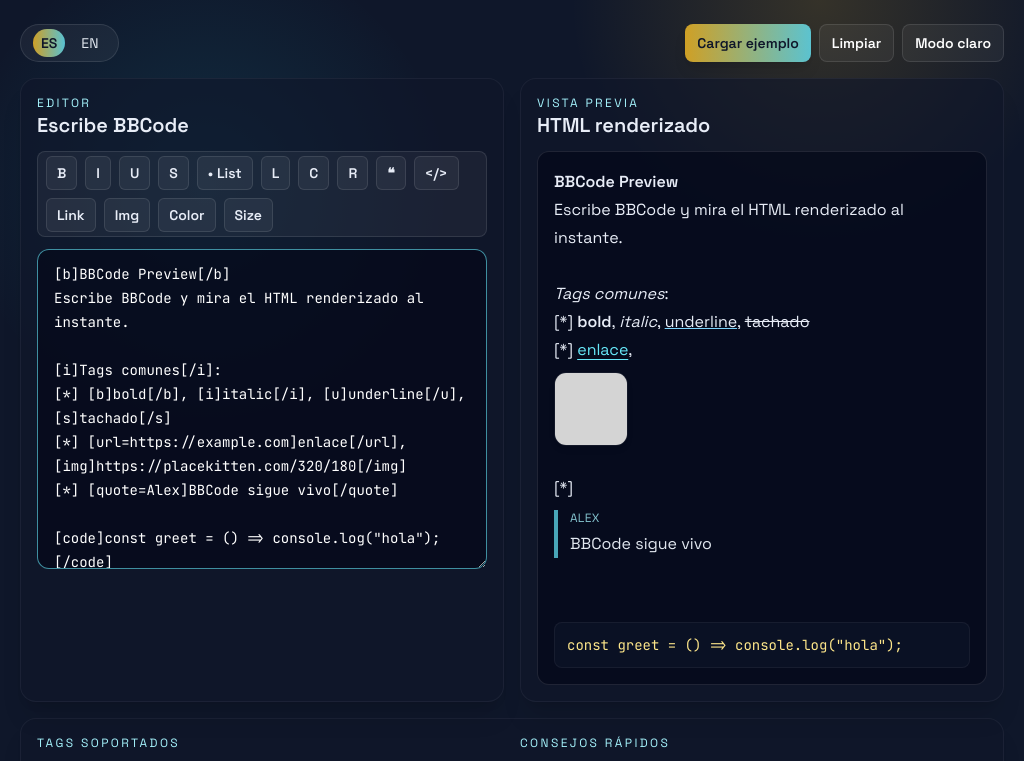
Test: App › inserts tags from chips at selection and clears
Replace the text in the text box with "texto". click: (262, 409)
box: [37,249,487,569]
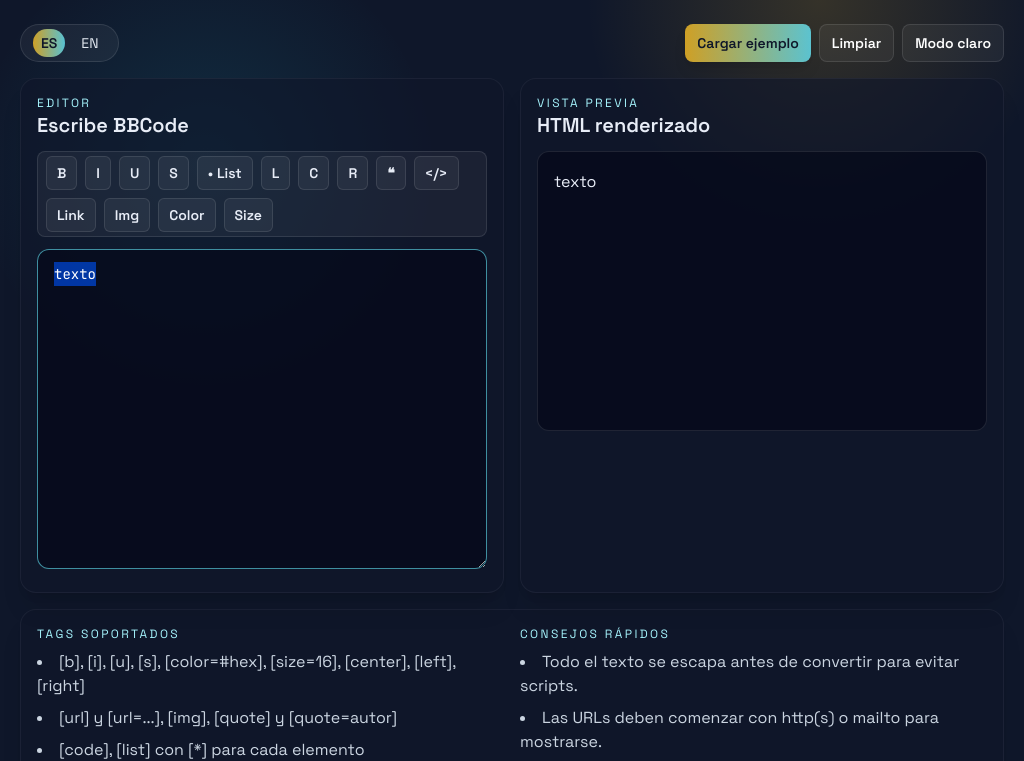
Click the button "B". click: click(62, 173)
box: [46,156,77,190]
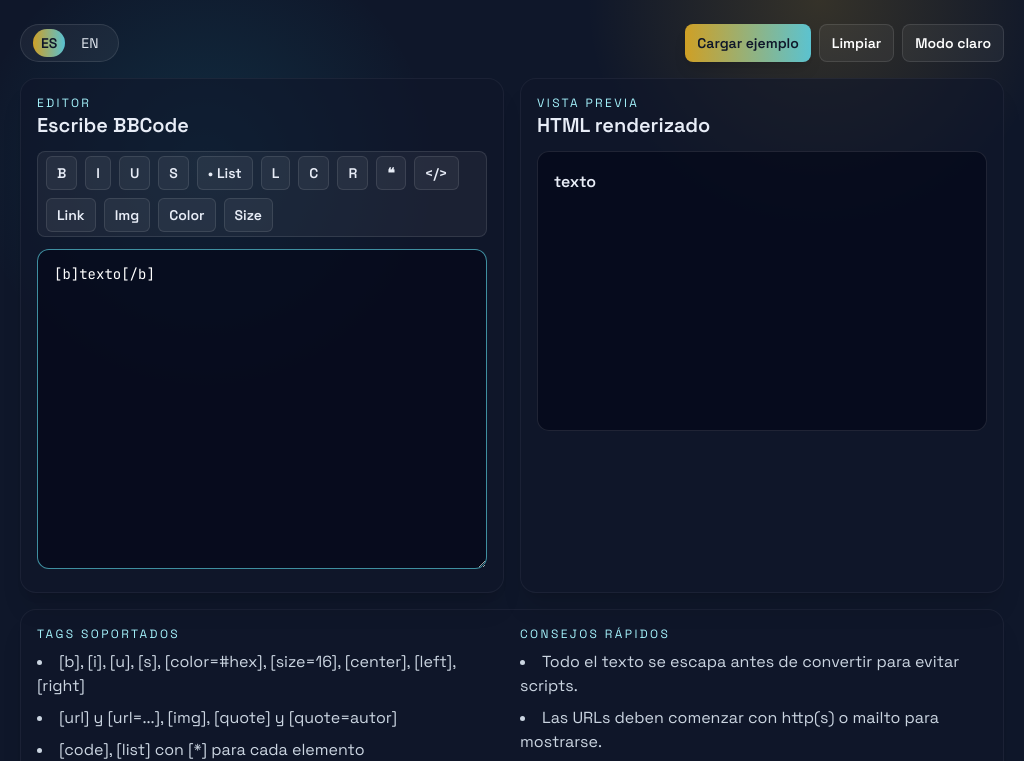
Click the button "Limpiar". click: click(856, 43)
box: [819,24,894,62]
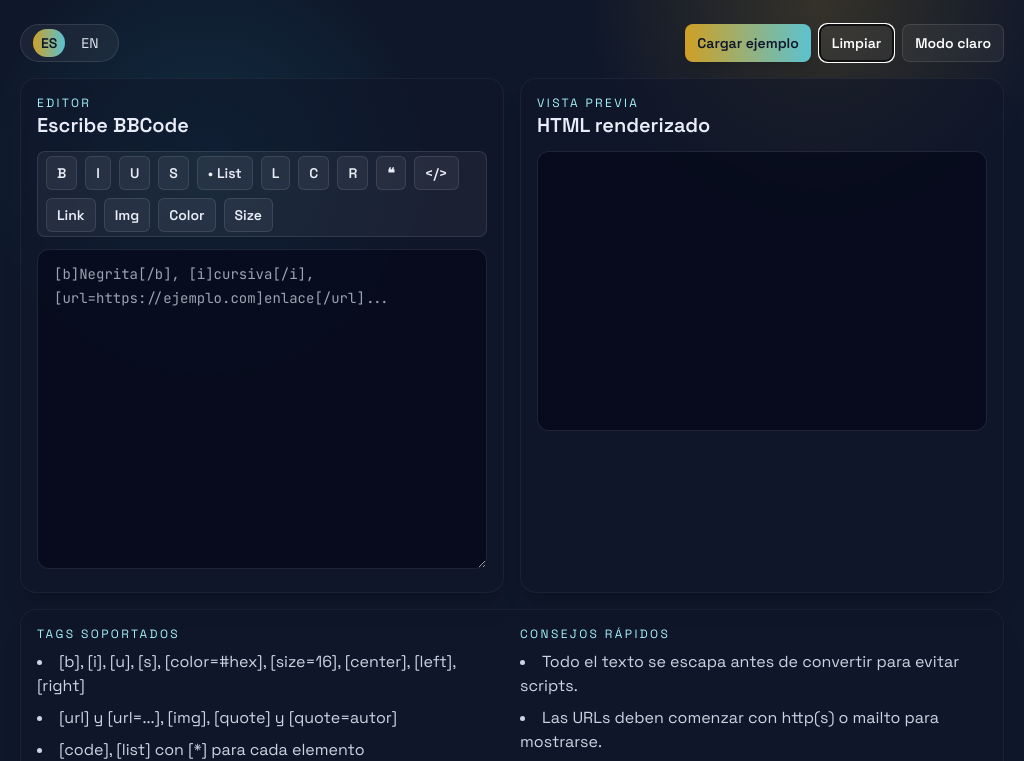
Check: the text box is empty, box [37,249,487,569]
